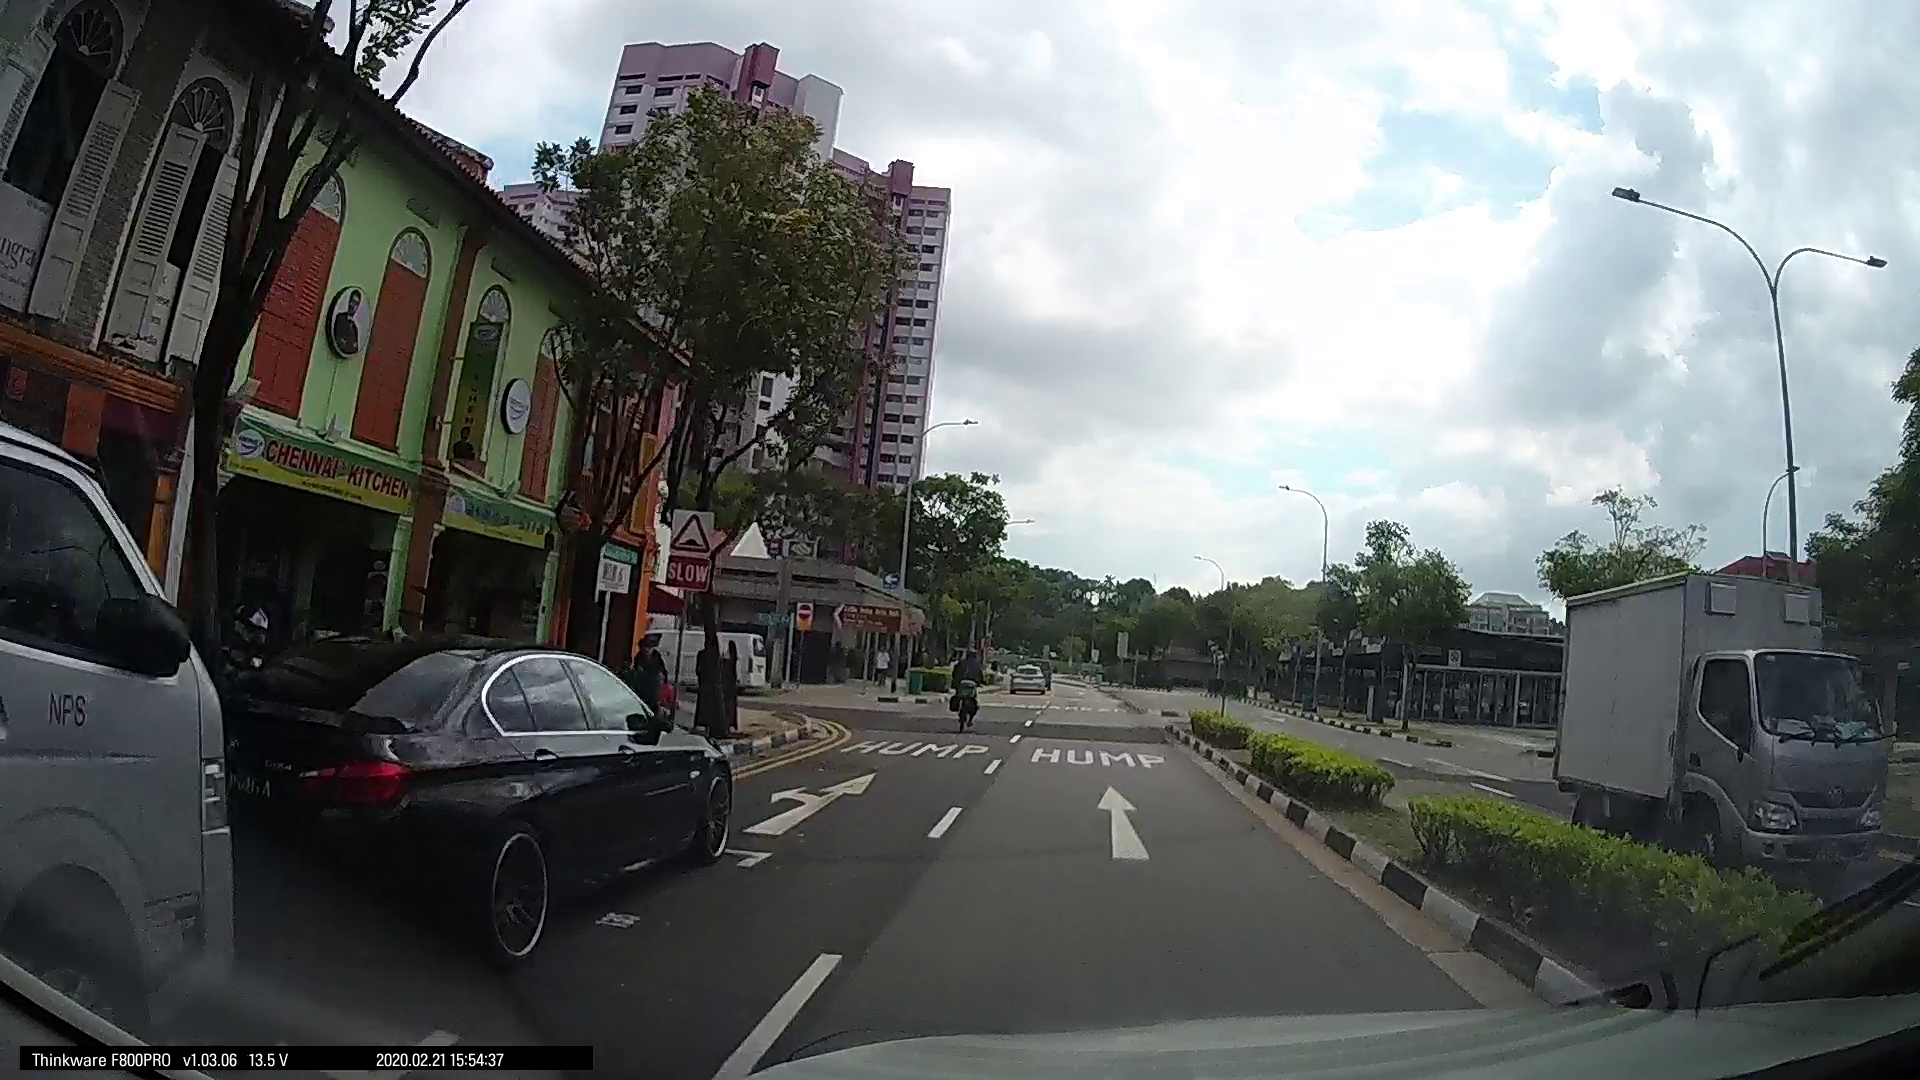Heavy Vehicle: (1, 415, 248, 1021), (1547, 574, 1892, 884)
Light Vehicle: (256, 628, 733, 959), (1004, 655, 1048, 696)
